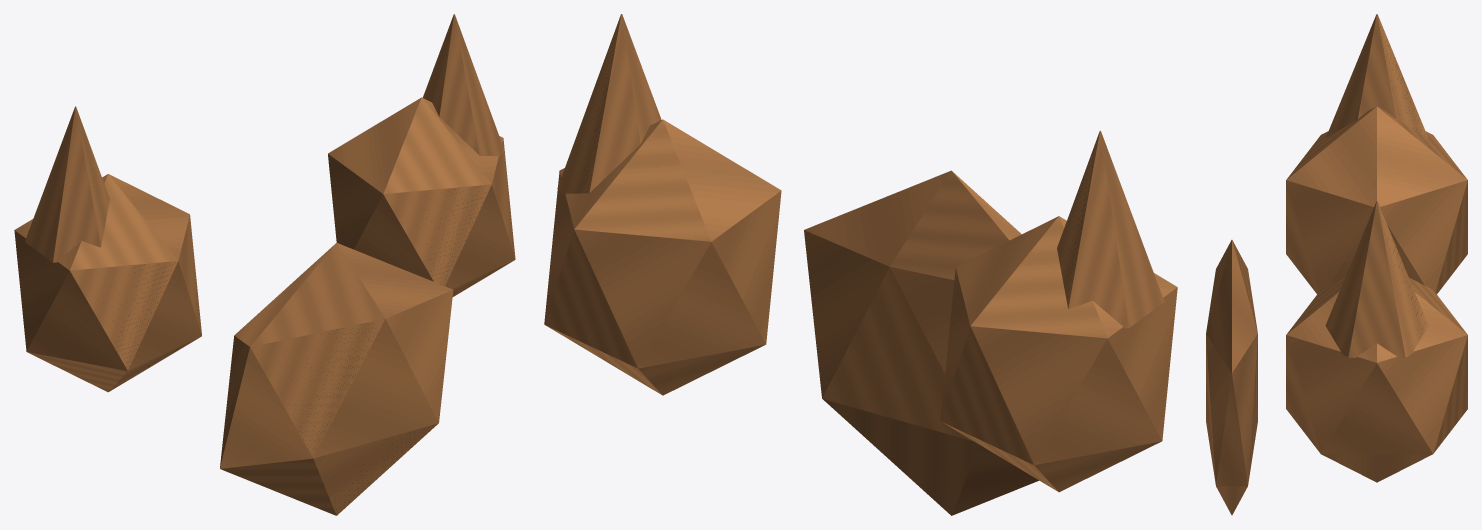
The model's file is starfall.glb.
3 renders of one model, left to right at view 1: azimuth 30°, elevation 25°; view 2: azimuth 150°, elevation 25°; view 3: azimuth 270°, elevation 25°, orthographic. The views are drawn at different scales.
Visible parts, largest first — view 1: gear_starfall; view 2: gear_starfall; view 3: gear_starfall.
Part boxes in pixels (x1,y1,x2,y2): gear_starfall: (14, 14, 515, 515); gear_starfall: (544, 14, 1177, 515); gear_starfall: (1206, 14, 1467, 515).
Bounding box in the file's own units: 0.7304 × 0.59 × 0.3431.
1 material, 1 textured.
